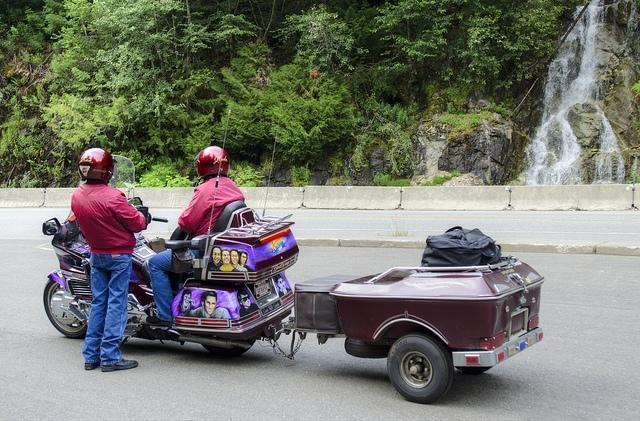motorcycle: (34, 200, 549, 405)
